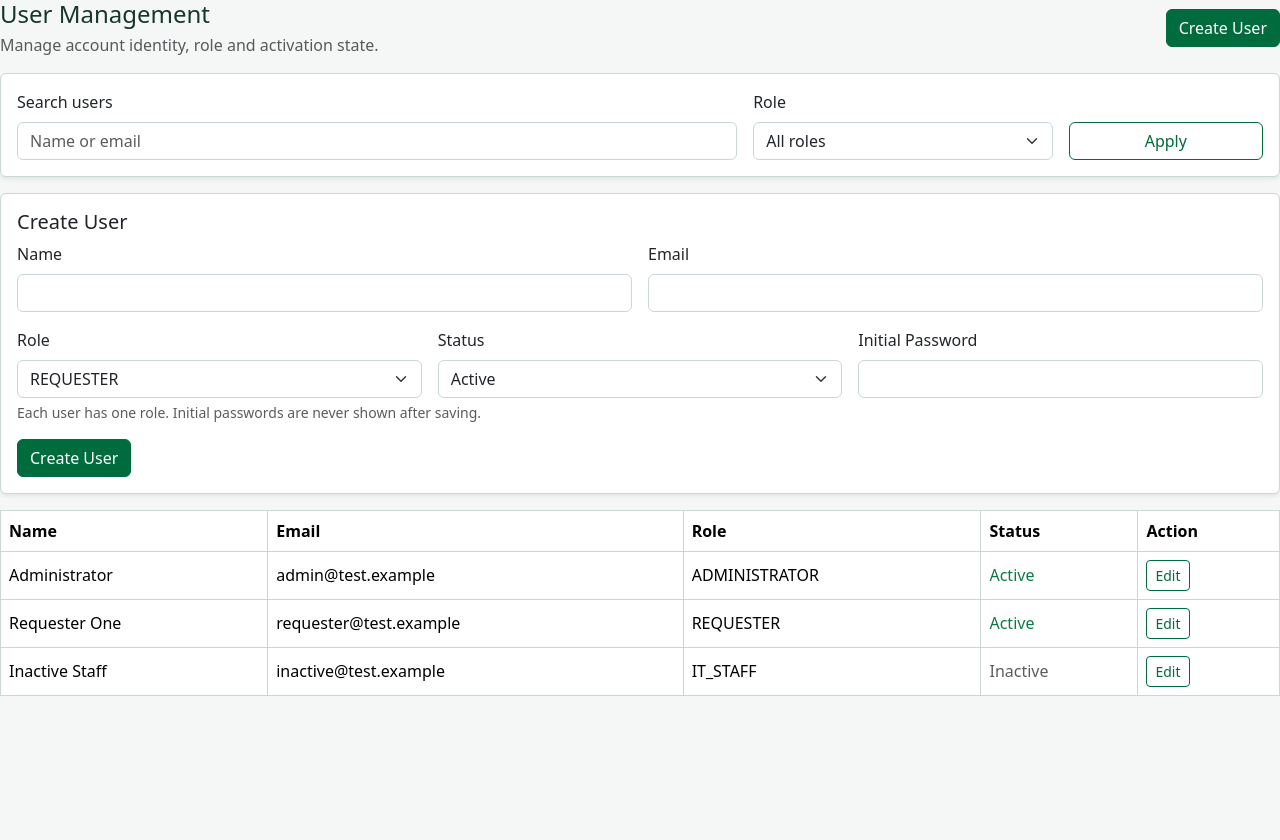
Test: Administrator User Management › confirms deactivation and prevents blank form submission
The image size is (1280, 840).
Expected: the text "Requester One" is shown, top-left (0, 599), bottom-right (268, 647)
Click the button "Edit" in the row of "admin@test.example": [1168, 575] box top-left (1146, 560), bottom-right (1190, 591)
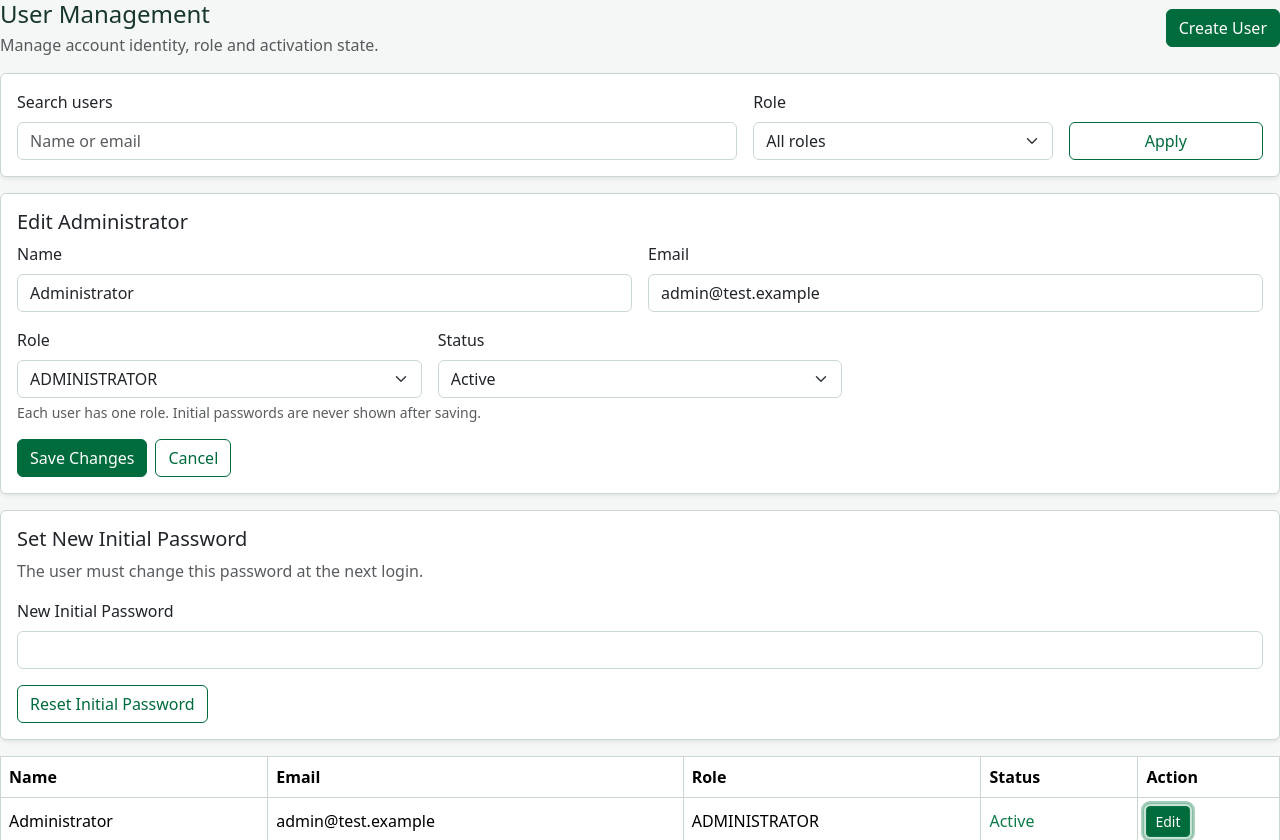
Select "Inactive" in the dropdown labelled "Status": [640, 379] box top-left (438, 360), bottom-right (842, 398)
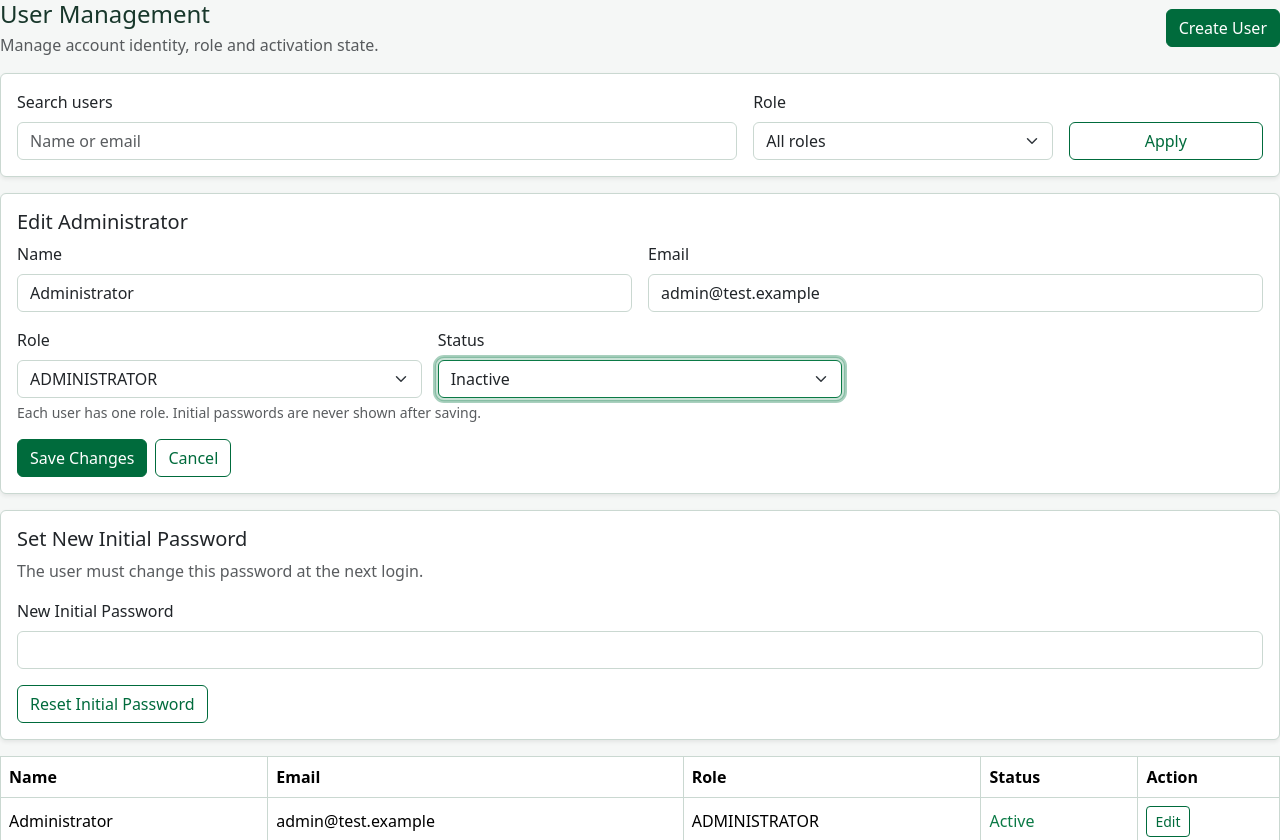
Click the button "Save Changes": [82, 458] box top-left (17, 439), bottom-right (148, 477)
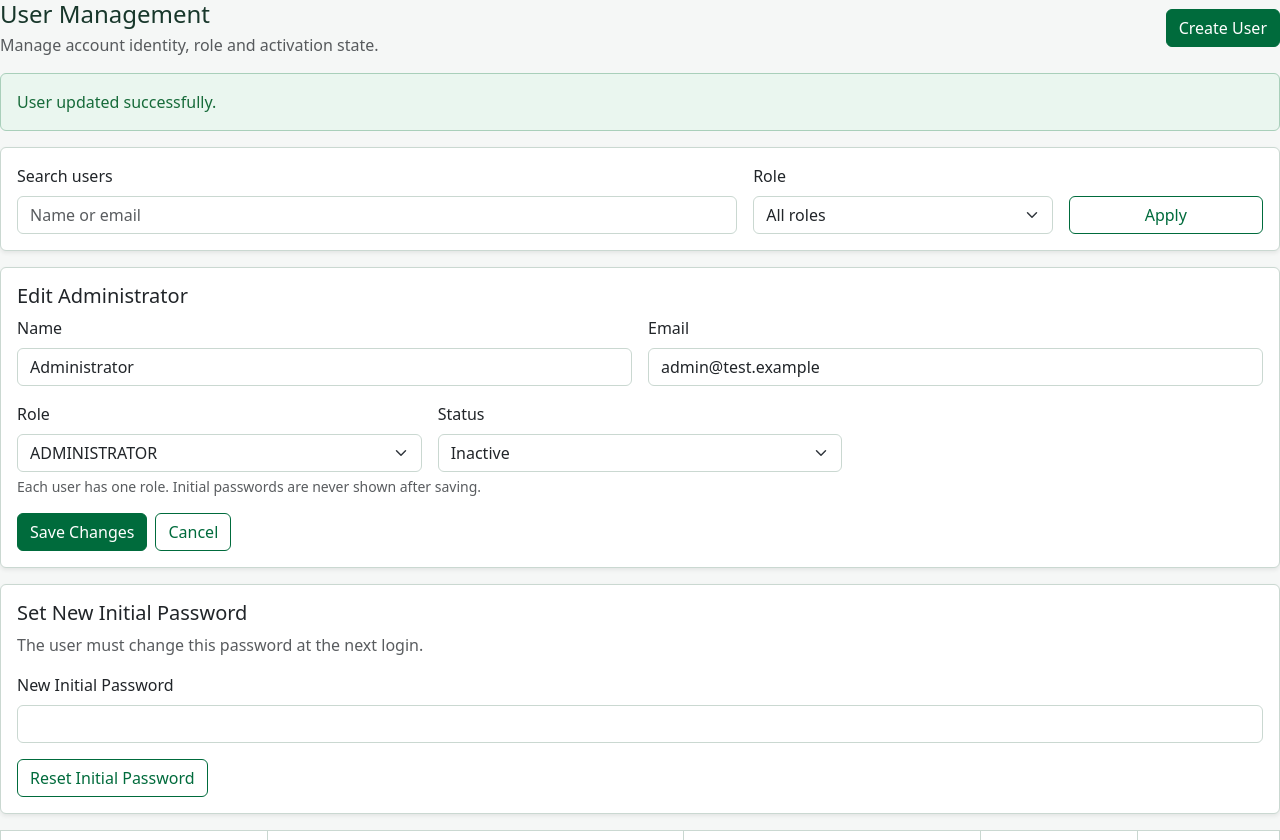
Click the button "Cancel": [193, 532] box top-left (156, 513), bottom-right (231, 551)
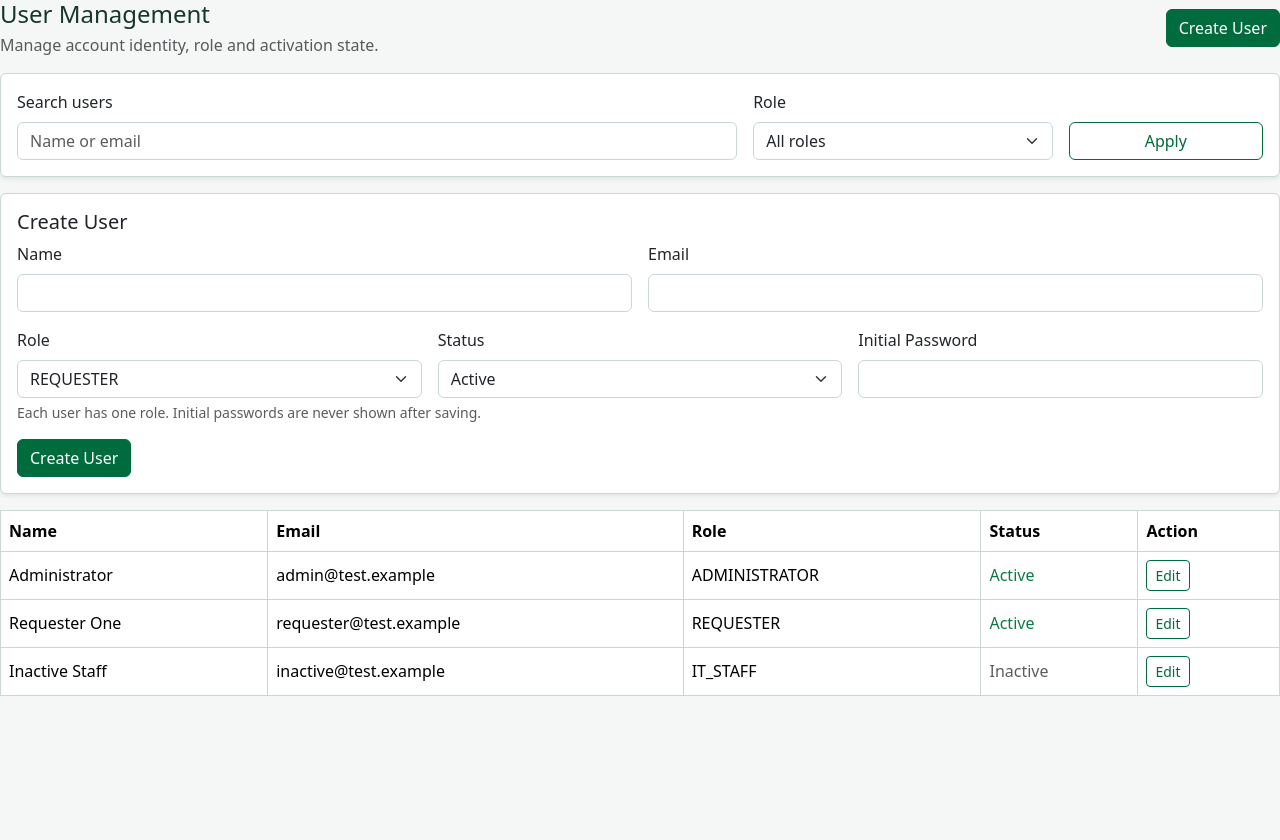
Click the 2nd button "Create User": [74, 458] box top-left (17, 439), bottom-right (131, 477)
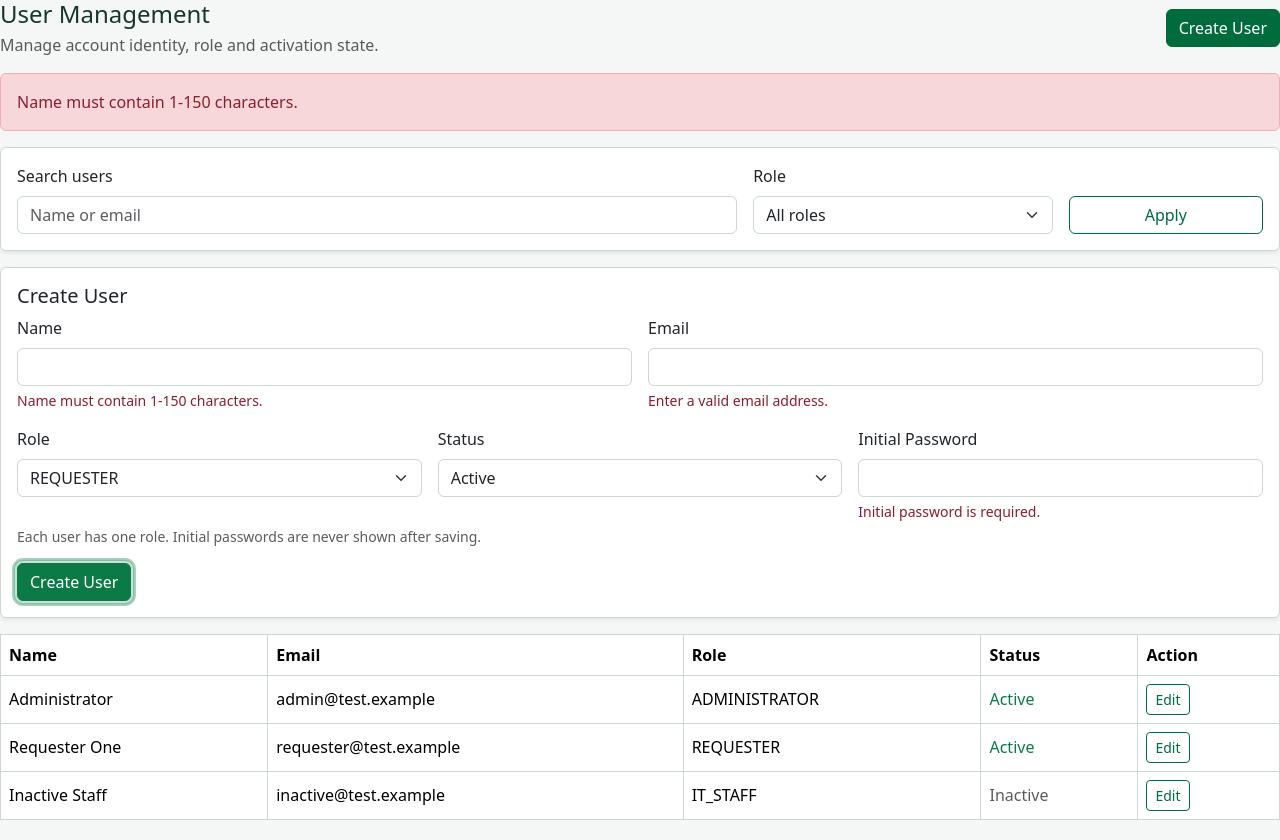
Now the message shows "Name must contain", box top-left (17, 91), bottom-right (298, 113)
